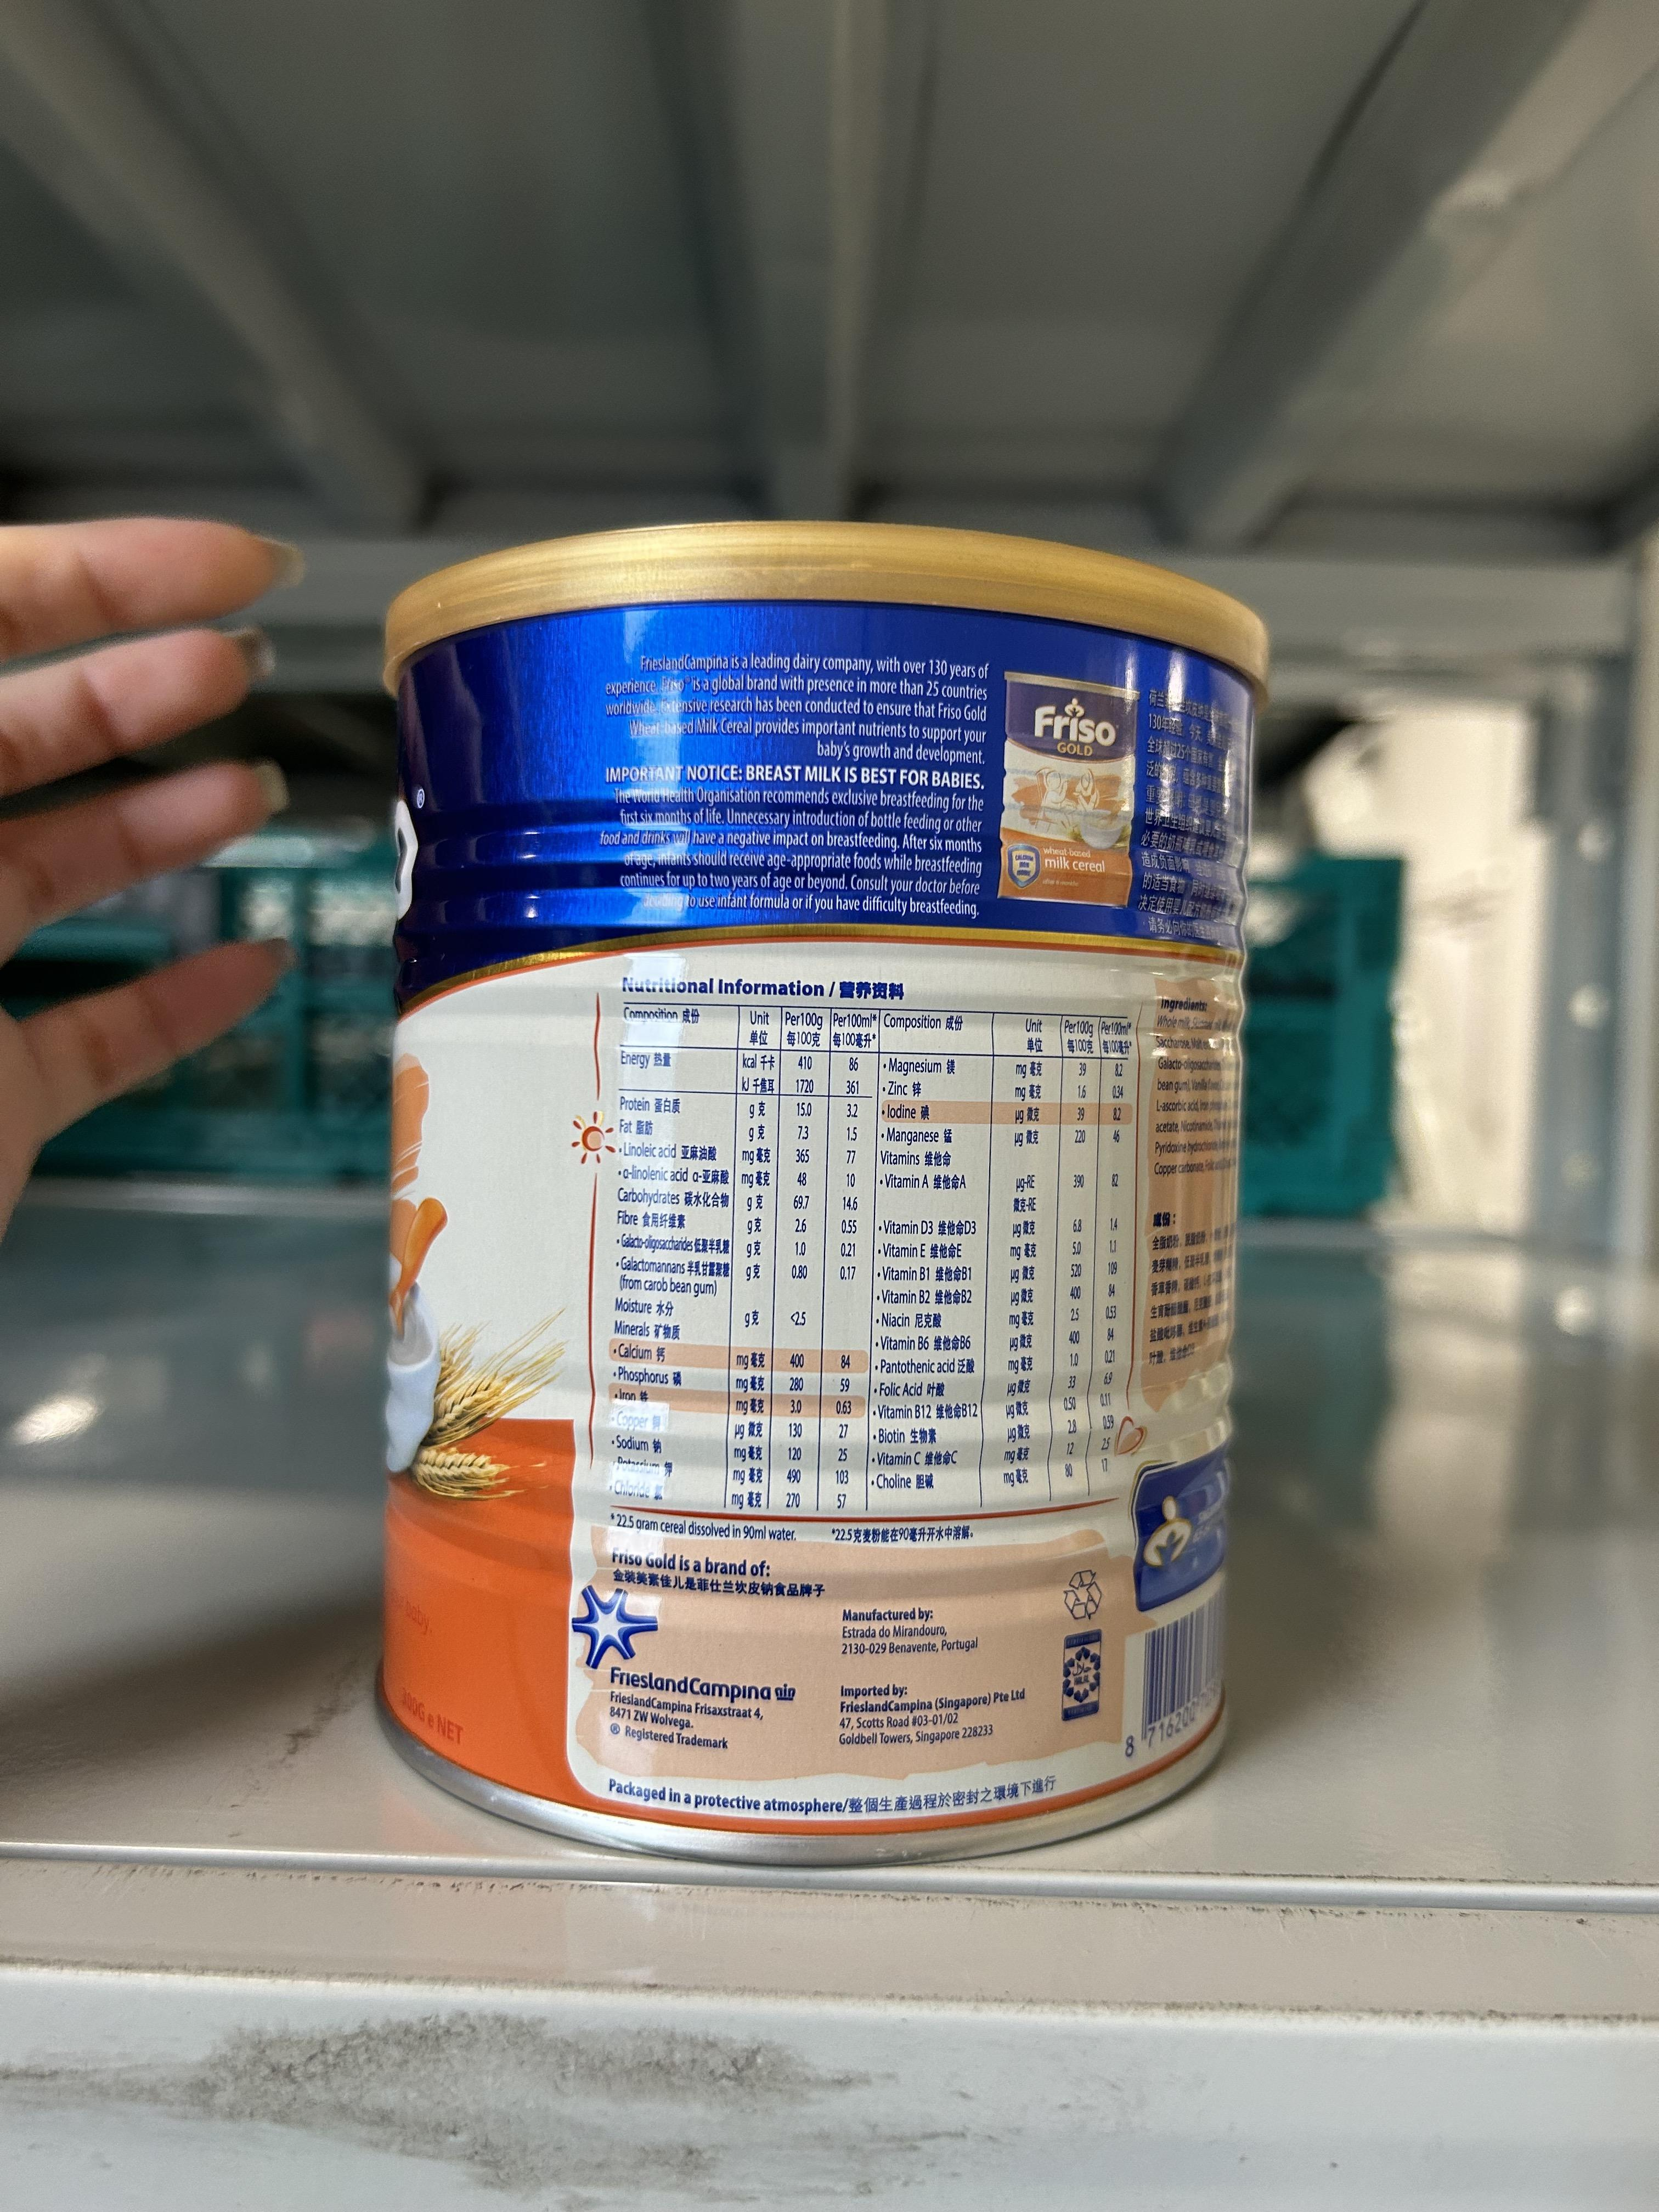object_name: (415, 603, 1223, 1796)
